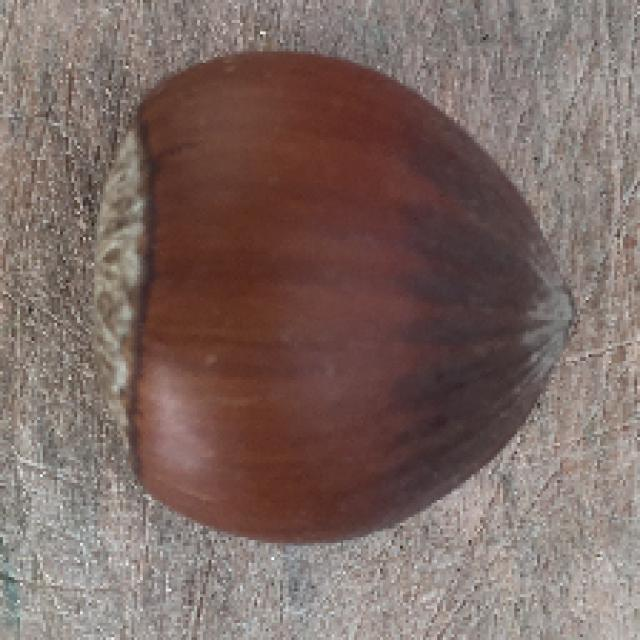damagedHazelnut: (90, 40, 576, 553)
